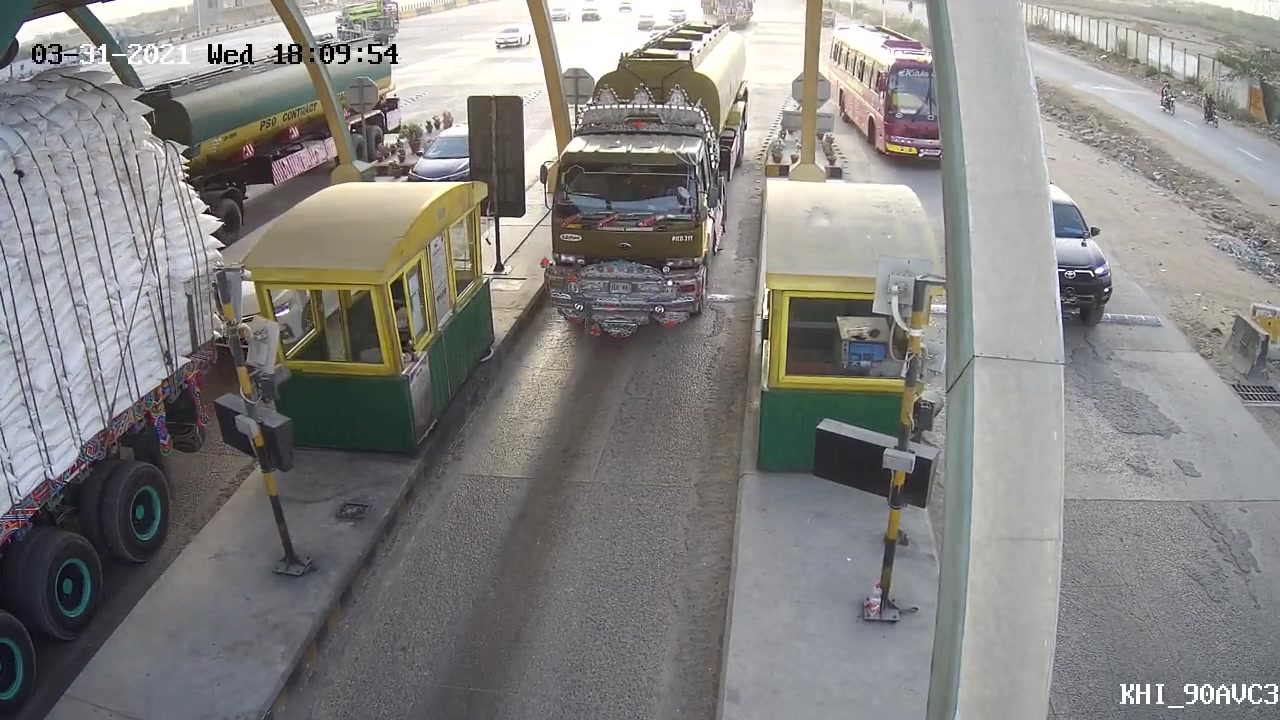F6: (529, 72, 743, 345)
